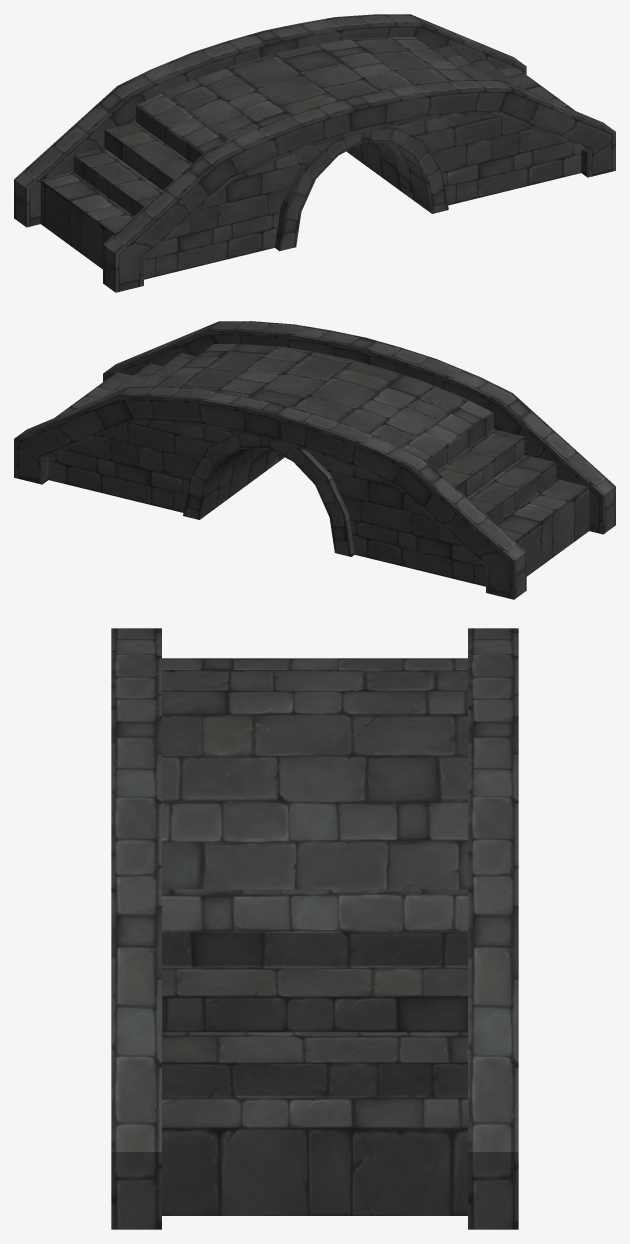
File: sewer_stair001.FBX
The picture shows the model from 3 angles, top to bottom: view 1: azimuth 30°, elevation 25°; view 2: azimuth 150°, elevation 25°; view 3: azimuth 270°, elevation 25°; orthographic projection. The views are drawn at different scales.
Visible parts, largest first — view 1: sewer_stair001; view 2: sewer_stair001; view 3: sewer_stair001.
Part boxes in pixels (left/top/right/bottom): sewer_stair001: left=14, top=14, right=615, bottom=292; sewer_stair001: left=14, top=321, right=615, bottom=599; sewer_stair001: left=111, top=628, right=518, bottom=1229.
Size of the model in its own units: 1996 by 483 by 704.
